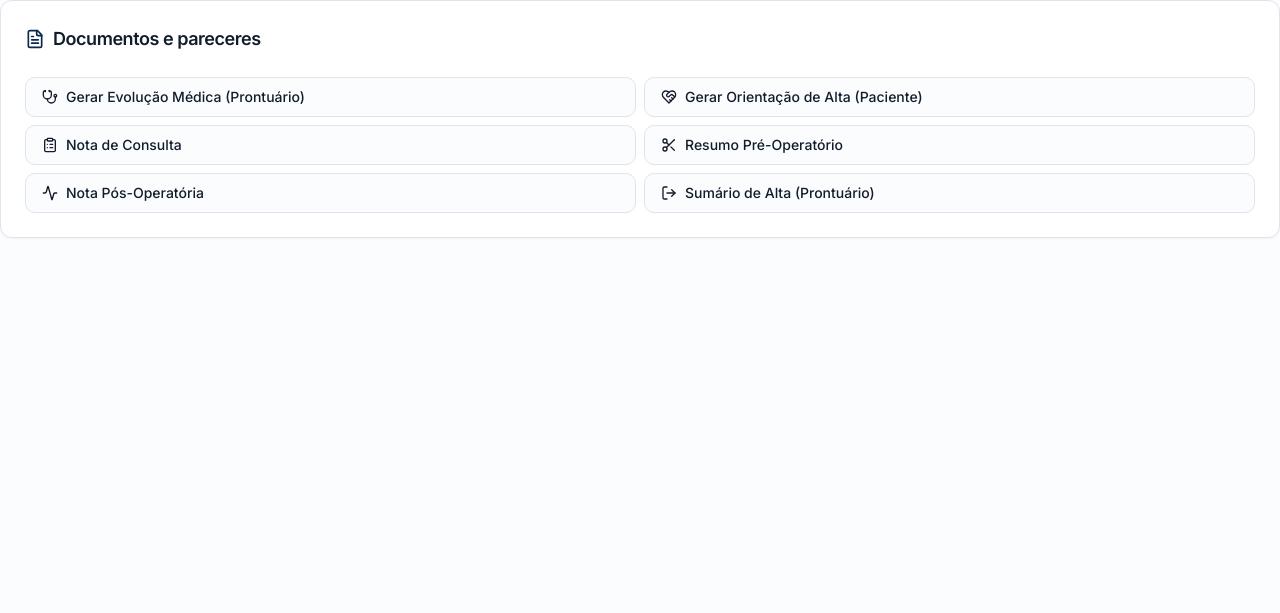
Test: DocumentGenerator › avisa na tela quando o documento se apoia em base preliminar
Step 1. Click the button "Nota de Consulta" → (124, 144), box [25,125,636,165]
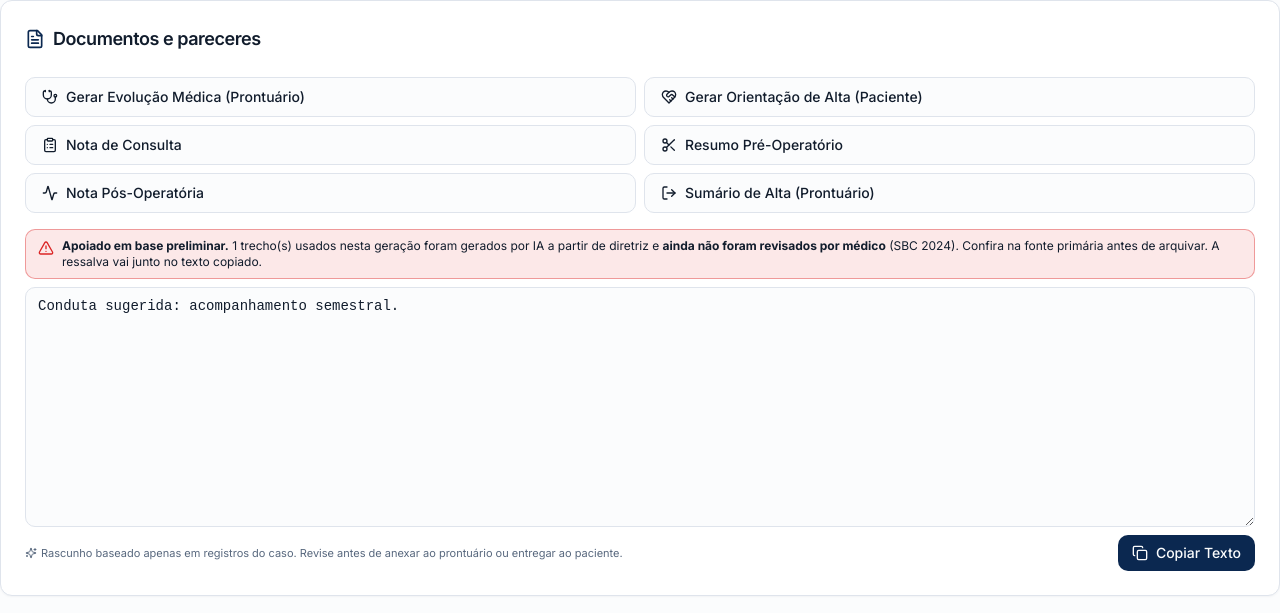
Result: the text "Apoiado em base preliminar." is shown at [62,238,229,253]
Result: the text "ainda não foram revisados por médico" is shown at [663,238,886,253]
Result: the text "SBC 2024" is shown at [894,238,951,253]
